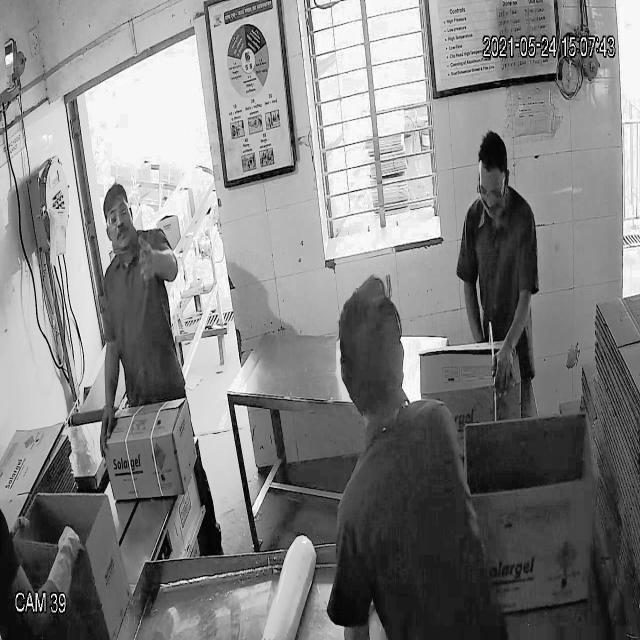glasses: (473, 176, 509, 205), (99, 202, 135, 230)
